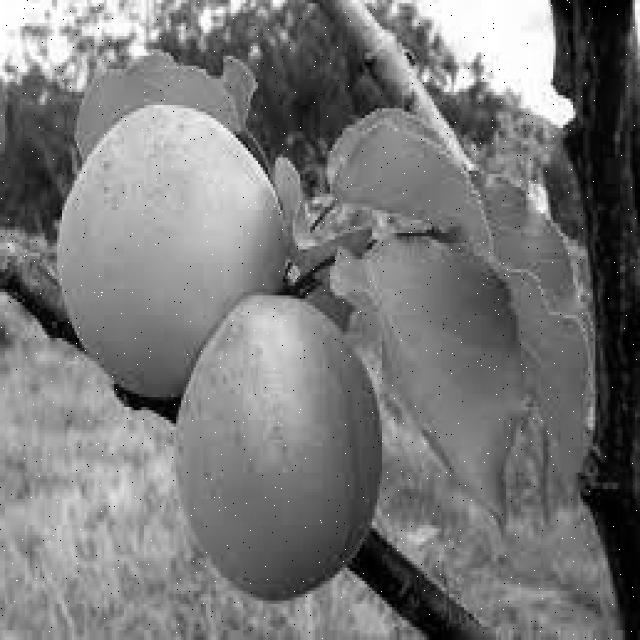kayisi: (170, 292, 384, 590), (58, 112, 280, 388)
kayisi yapragi: (428, 155, 596, 493), (339, 249, 524, 514), (340, 96, 493, 251), (68, 40, 262, 148), (278, 152, 365, 280), (0, 78, 6, 155)
